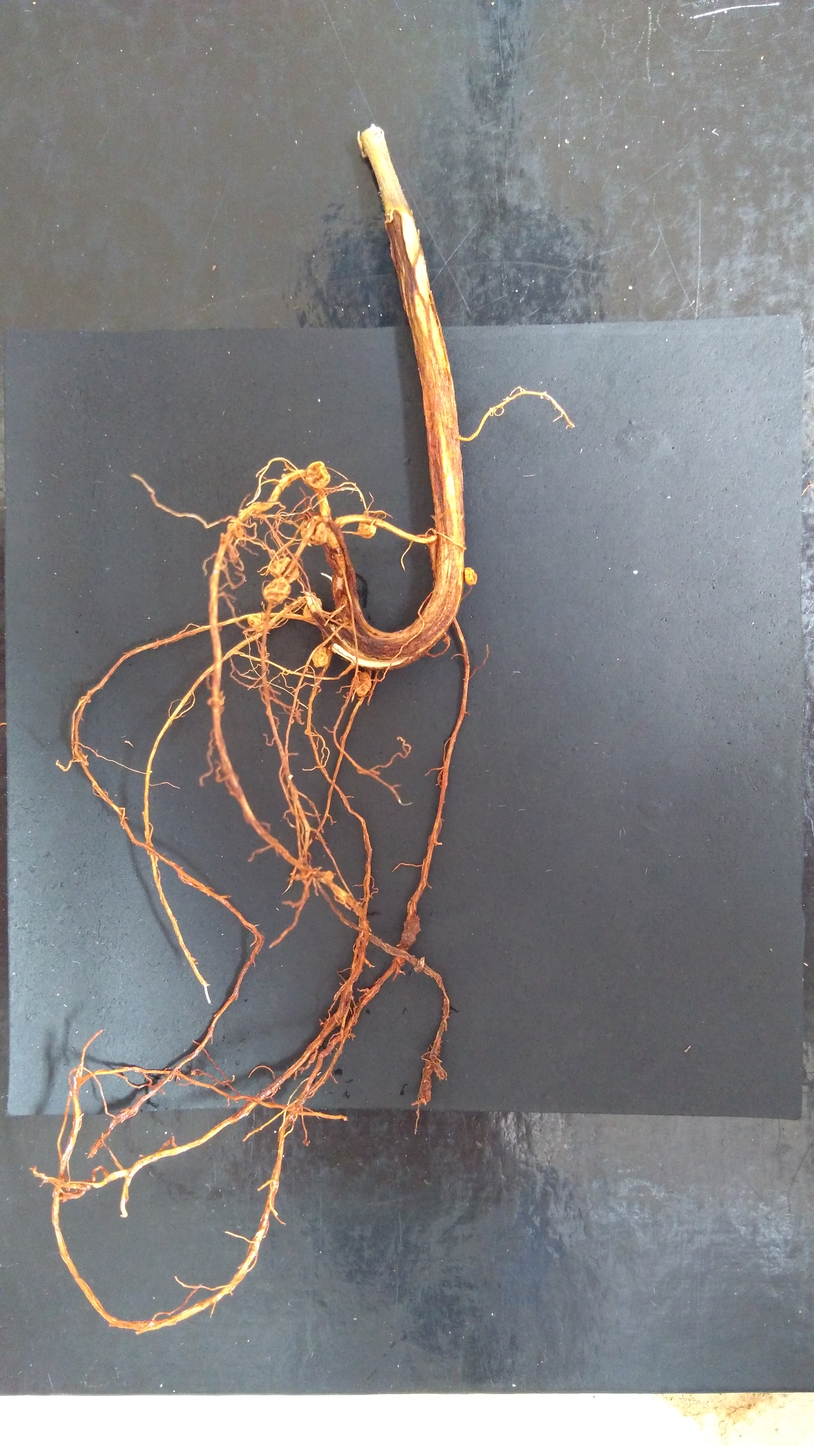nodule: (268, 556, 300, 586), (262, 576, 292, 606), (304, 459, 331, 489), (298, 521, 328, 547), (350, 671, 374, 697), (302, 597, 322, 624), (246, 612, 267, 633), (357, 521, 378, 539), (311, 649, 329, 669), (226, 522, 244, 538), (464, 566, 478, 586), (322, 870, 335, 882)
